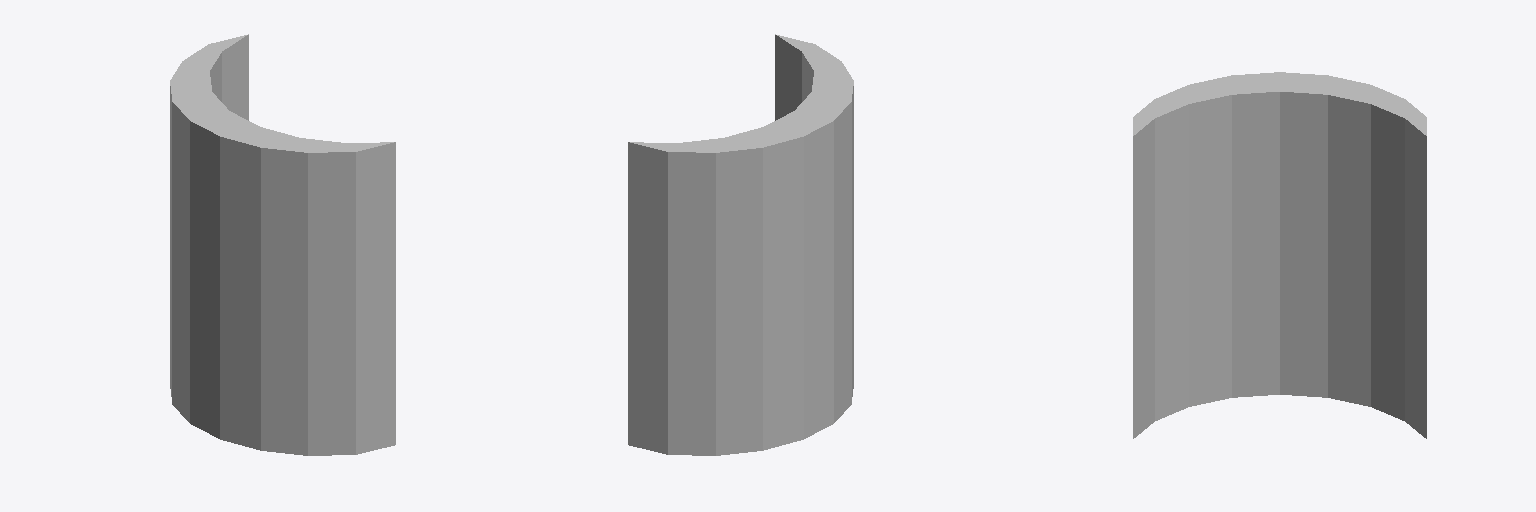
The model's file is shield2.obj.
3 renders of one model, left to right at view 1: azimuth 30°, elevation 25°; view 2: azimuth 150°, elevation 25°; view 3: azimuth 270°, elevation 25°, orthographic.
Visible parts, largest first — view 1: pCylinder3; view 2: pCylinder3; view 3: pCylinder3.
Boxes of the visible parts, box(x1,y1,x2,y2) form: pCylinder3: box(170, 34, 395, 455); pCylinder3: box(628, 34, 853, 455); pCylinder3: box(1133, 72, 1426, 438).
Size of the model in its own units: 0.9886 by 2.16 by 1.9.